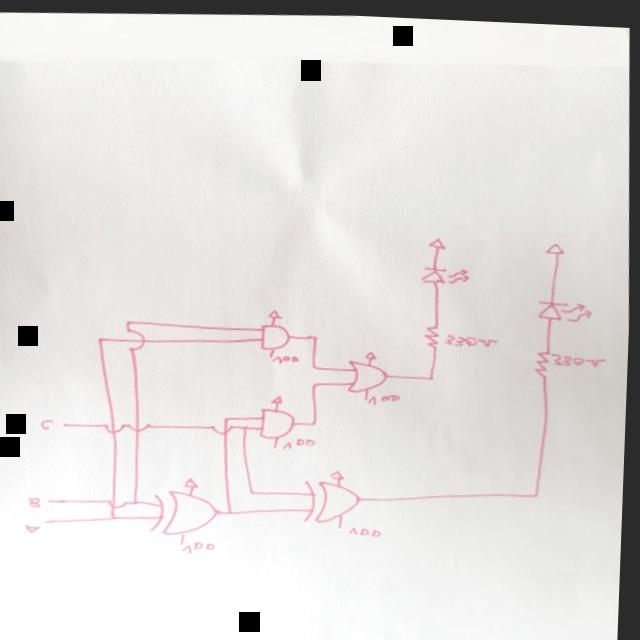crossover: (123, 325, 149, 350), (126, 417, 155, 435), (101, 417, 127, 435), (212, 421, 234, 433), (108, 495, 128, 507)
diode: (533, 292, 595, 318), (419, 259, 470, 283)
ground: (426, 231, 448, 247), (543, 236, 566, 250), (184, 473, 202, 488), (330, 464, 348, 476), (364, 346, 378, 357), (267, 305, 281, 316), (272, 391, 284, 401)
junction: (532, 486, 544, 493), (425, 370, 437, 377), (124, 316, 134, 324), (309, 417, 320, 424), (310, 331, 320, 338), (250, 485, 258, 493), (227, 505, 236, 512), (111, 513, 119, 520), (311, 361, 319, 367), (242, 422, 250, 428), (223, 413, 231, 419), (133, 497, 141, 503), (97, 335, 105, 341), (311, 379, 319, 384)
resistor: (531, 344, 555, 375), (422, 320, 442, 346)
source: (180, 539, 187, 543), (339, 521, 345, 525), (273, 442, 279, 446), (363, 393, 369, 397), (269, 351, 275, 355)
terminal: (48, 496, 56, 502), (62, 420, 70, 426), (45, 518, 51, 522)
text: (442, 326, 502, 344), (551, 345, 608, 363), (283, 434, 319, 449), (184, 538, 217, 553), (368, 389, 403, 403), (348, 521, 385, 534), (272, 351, 301, 361), (26, 521, 42, 533), (29, 495, 43, 508), (41, 417, 55, 429)
